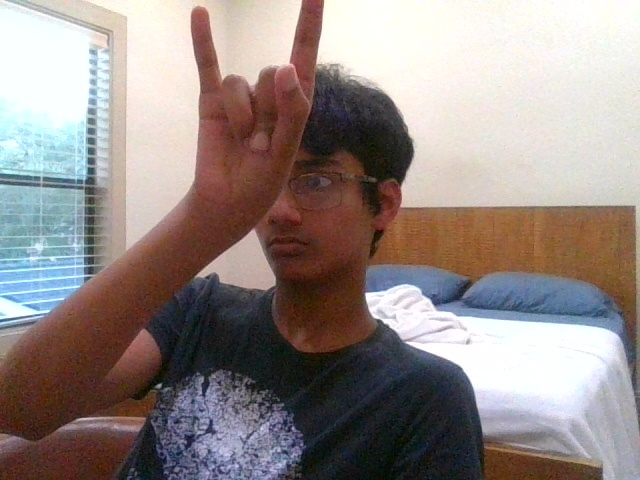ly: (191, 1, 324, 208)
